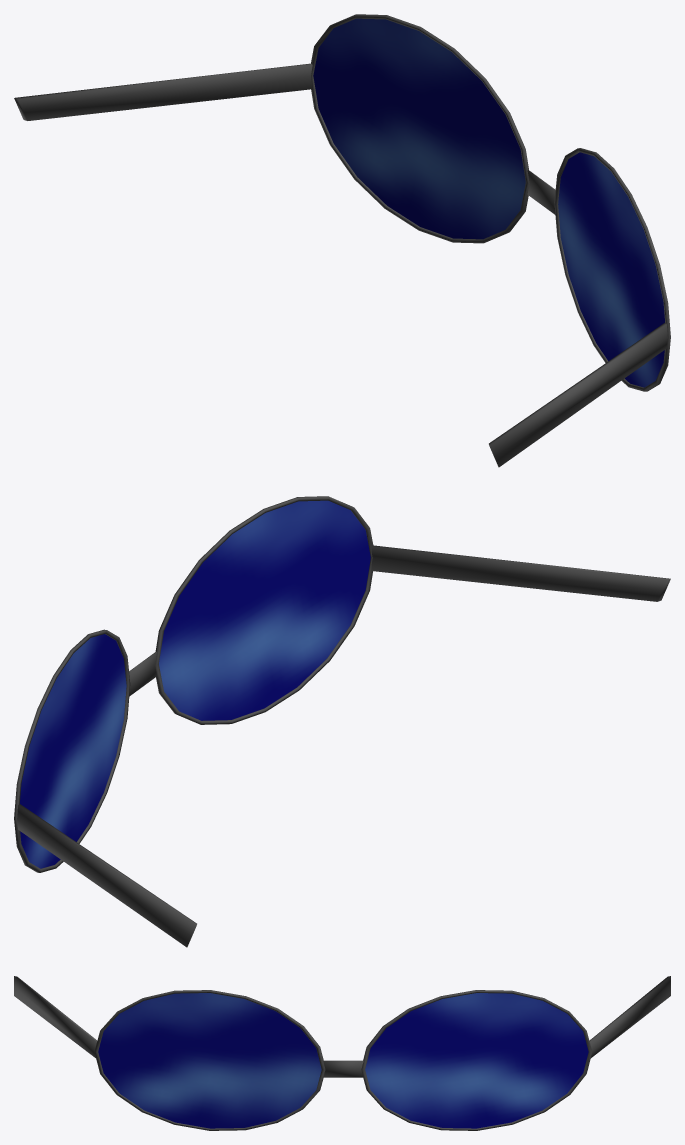
The model's file is human2g3.obj.
3 renders of one model, top to bottom at view 1: azimuth 30°, elevation 25°; view 2: azimuth 150°, elevation 25°; view 3: azimuth 270°, elevation 25°, orthographic. The views are drawn at different scales.
Visible parts, largest first — view 1: ColobotMesh_1_ColobotMesh_, ColobotMesh_1.001_ColobotMesh_.002, ColobotMesh_1.002_ColobotMesh_.003; view 2: ColobotMesh_1_ColobotMesh_, ColobotMesh_1.001_ColobotMesh_.002, ColobotMesh_1.002_ColobotMesh_.003; view 3: ColobotMesh_1_ColobotMesh_, ColobotMesh_1.002_ColobotMesh_.003, ColobotMesh_1.001_ColobotMesh_.002.
Boxes of the visible parts, x1,y1,x2,y2 form: ColobotMesh_1_ColobotMesh_: [313, 18, 664, 387]; ColobotMesh_1.001_ColobotMesh_.002: [14, 63, 667, 467]; ColobotMesh_1.002_ColobotMesh_.003: [311, 14, 670, 391]; ColobotMesh_1_ColobotMesh_: [20, 500, 370, 868]; ColobotMesh_1.001_ColobotMesh_.002: [17, 545, 670, 947]; ColobotMesh_1.002_ColobotMesh_.003: [14, 496, 373, 872]; ColobotMesh_1_ColobotMesh_: [98, 993, 588, 1128]; ColobotMesh_1.002_ColobotMesh_.003: [94, 990, 592, 1130]; ColobotMesh_1.001_ColobotMesh_.002: [14, 976, 670, 1077].
Size of the model in its own units: 0.3634 by 0.24 by 1.02.
